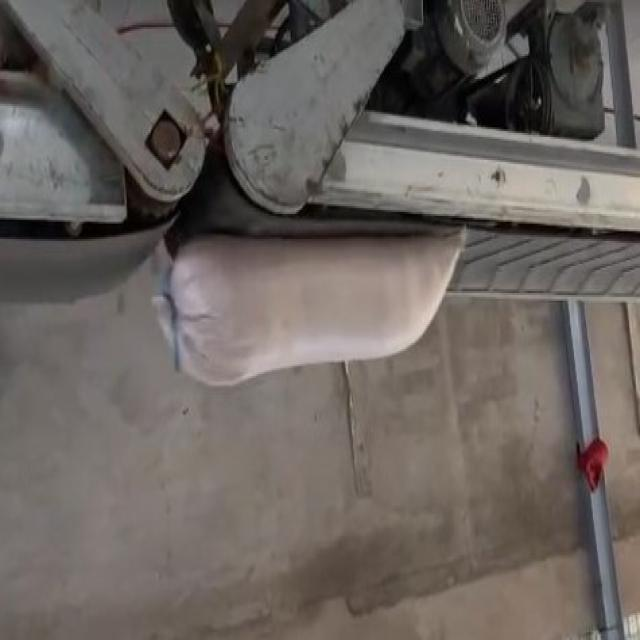gunny_bag: (170, 234, 465, 387)
